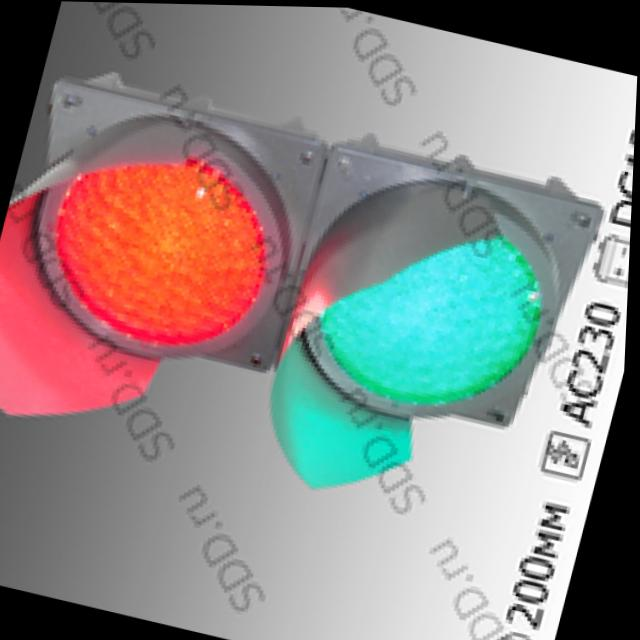green_light: (251, 128, 618, 518)
red_light: (0, 34, 348, 439)
